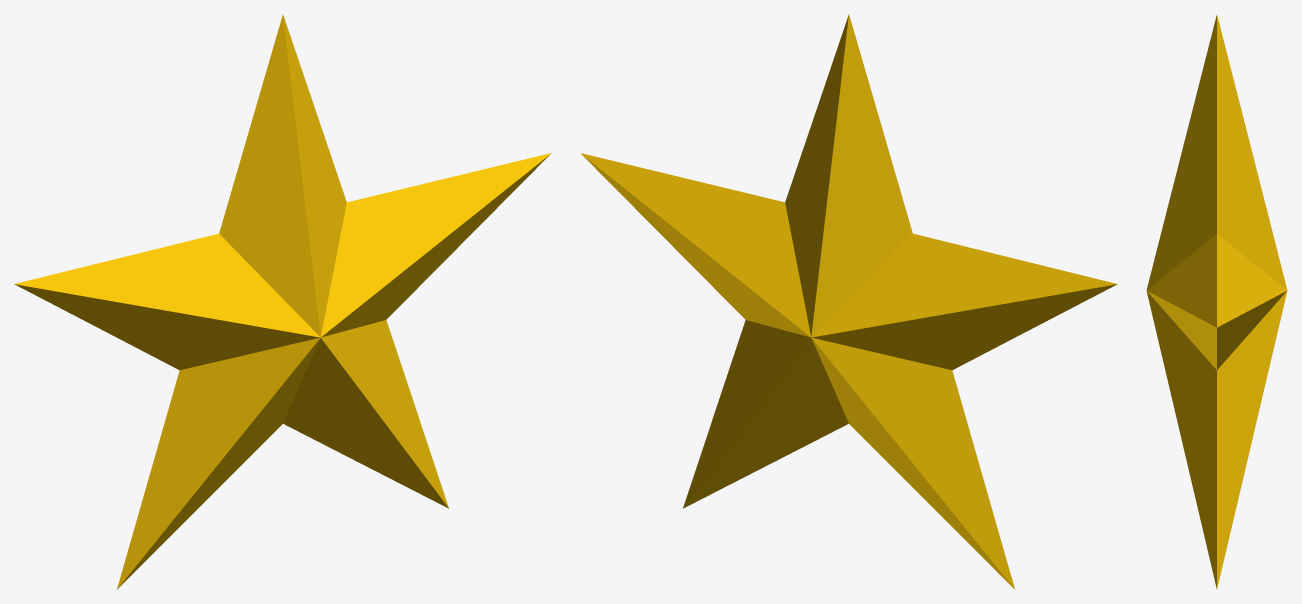
Rendered from star.glb.
The picture shows the model from 3 angles, left to right: view 1: azimuth 30°, elevation 25°; view 2: azimuth 150°, elevation 25°; view 3: azimuth 270°, elevation 25°; orthographic projection. The views are drawn at different scales.
Visible parts, largest first — view 1: Circle.001_Circle.007; view 2: Circle.001_Circle.007; view 3: Circle.001_Circle.007.
Boxes of the visible parts, x1=… form: Circle.001_Circle.007: x1=14, y1=14, x2=551, y2=589; Circle.001_Circle.007: x1=580, y1=14, x2=1117, y2=589; Circle.001_Circle.007: x1=1146, y1=15, x2=1287, y2=588.
Bounding box in the file's own units: 10.44 × 9.93 × 2.54.
